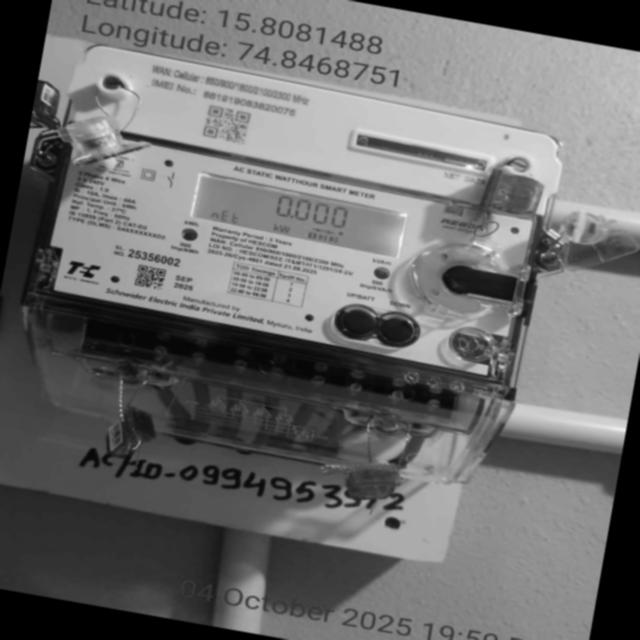meter: (35, 41, 565, 382)
